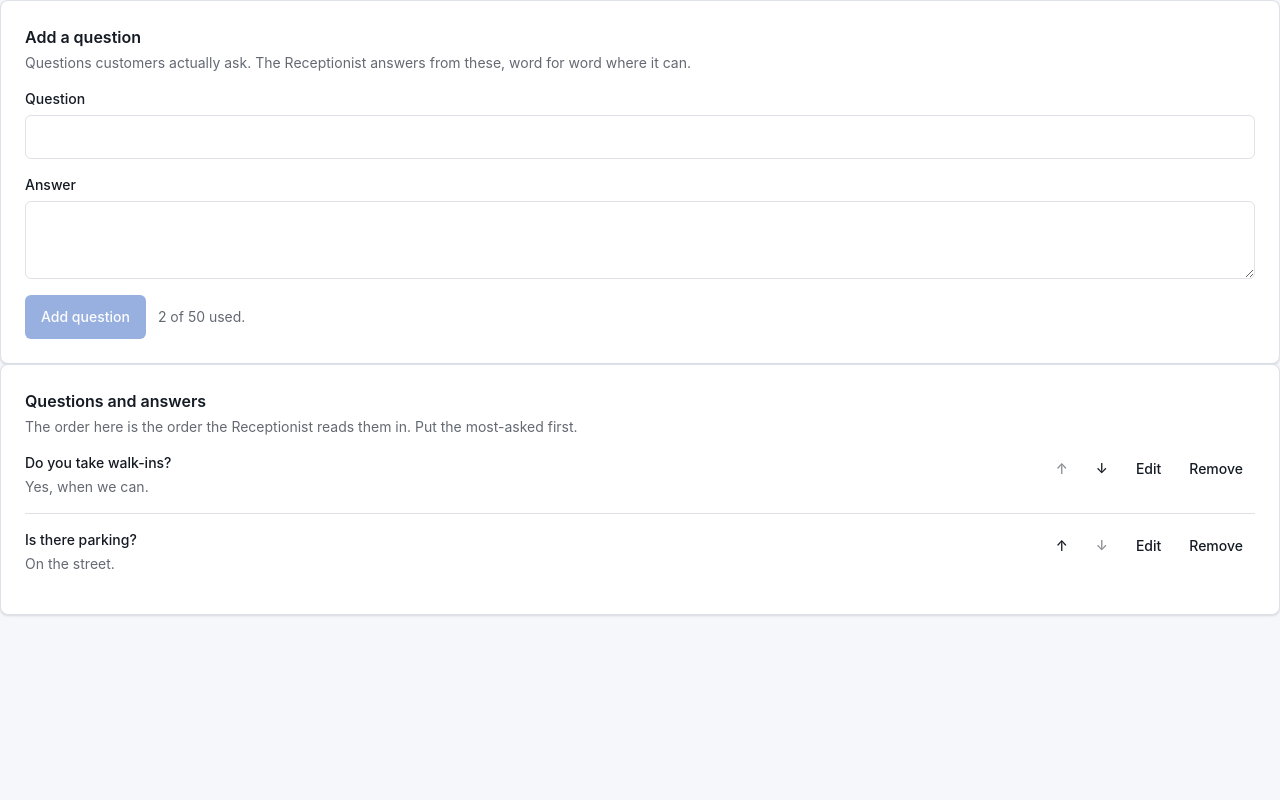
Scenario: FaqsCard, when a write is refused › re-reads the list after a failed reorder, because it may be half-moved
Click the button named "Move \"Is there parking?\" up" at point(1062, 546), box [1044,530,1080,562]
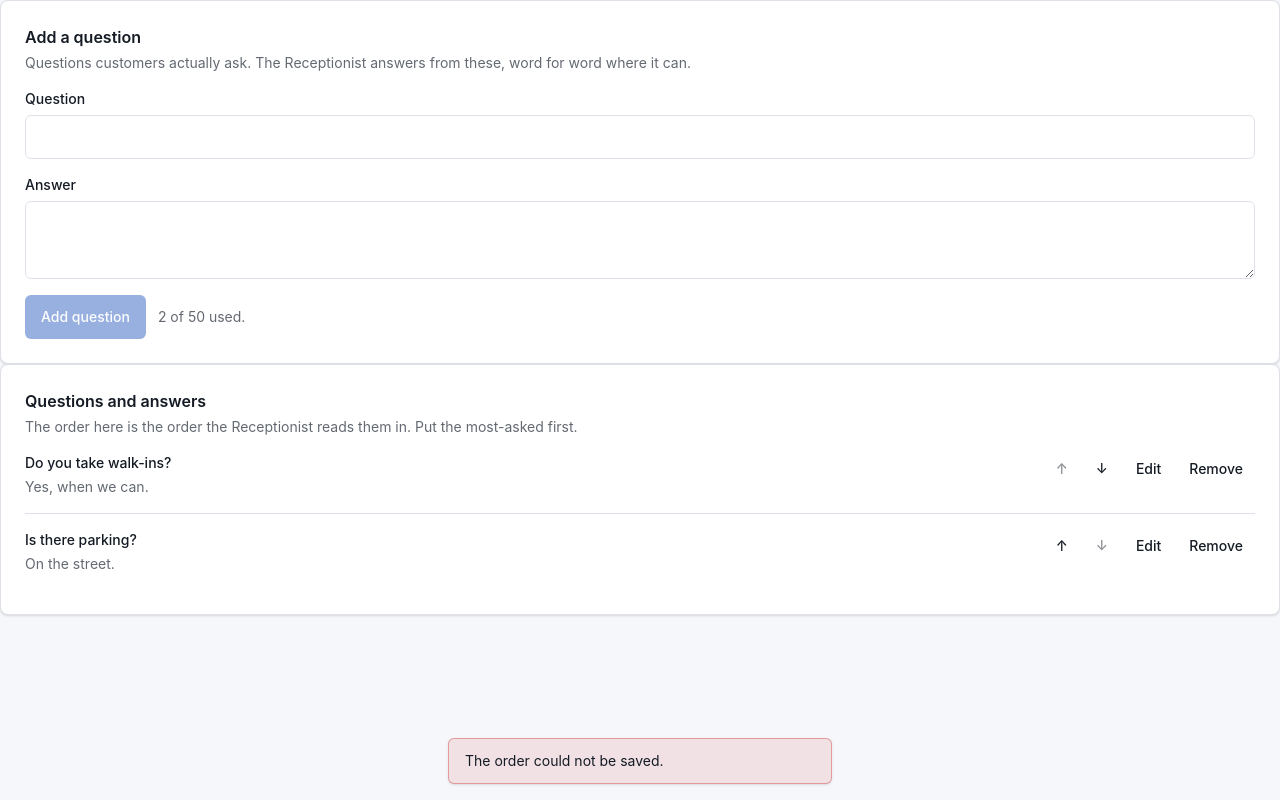
Now the text "The order could not be saved." is shown, box [448,738,832,784]
